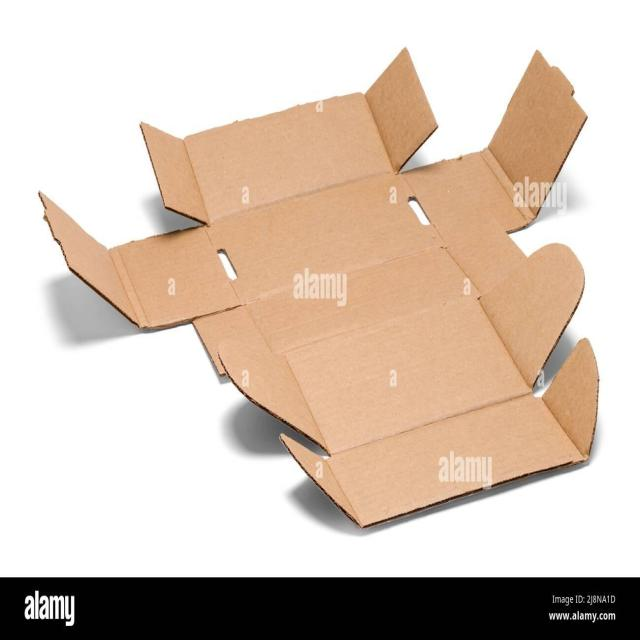Garbage: (36, 39, 602, 536)
